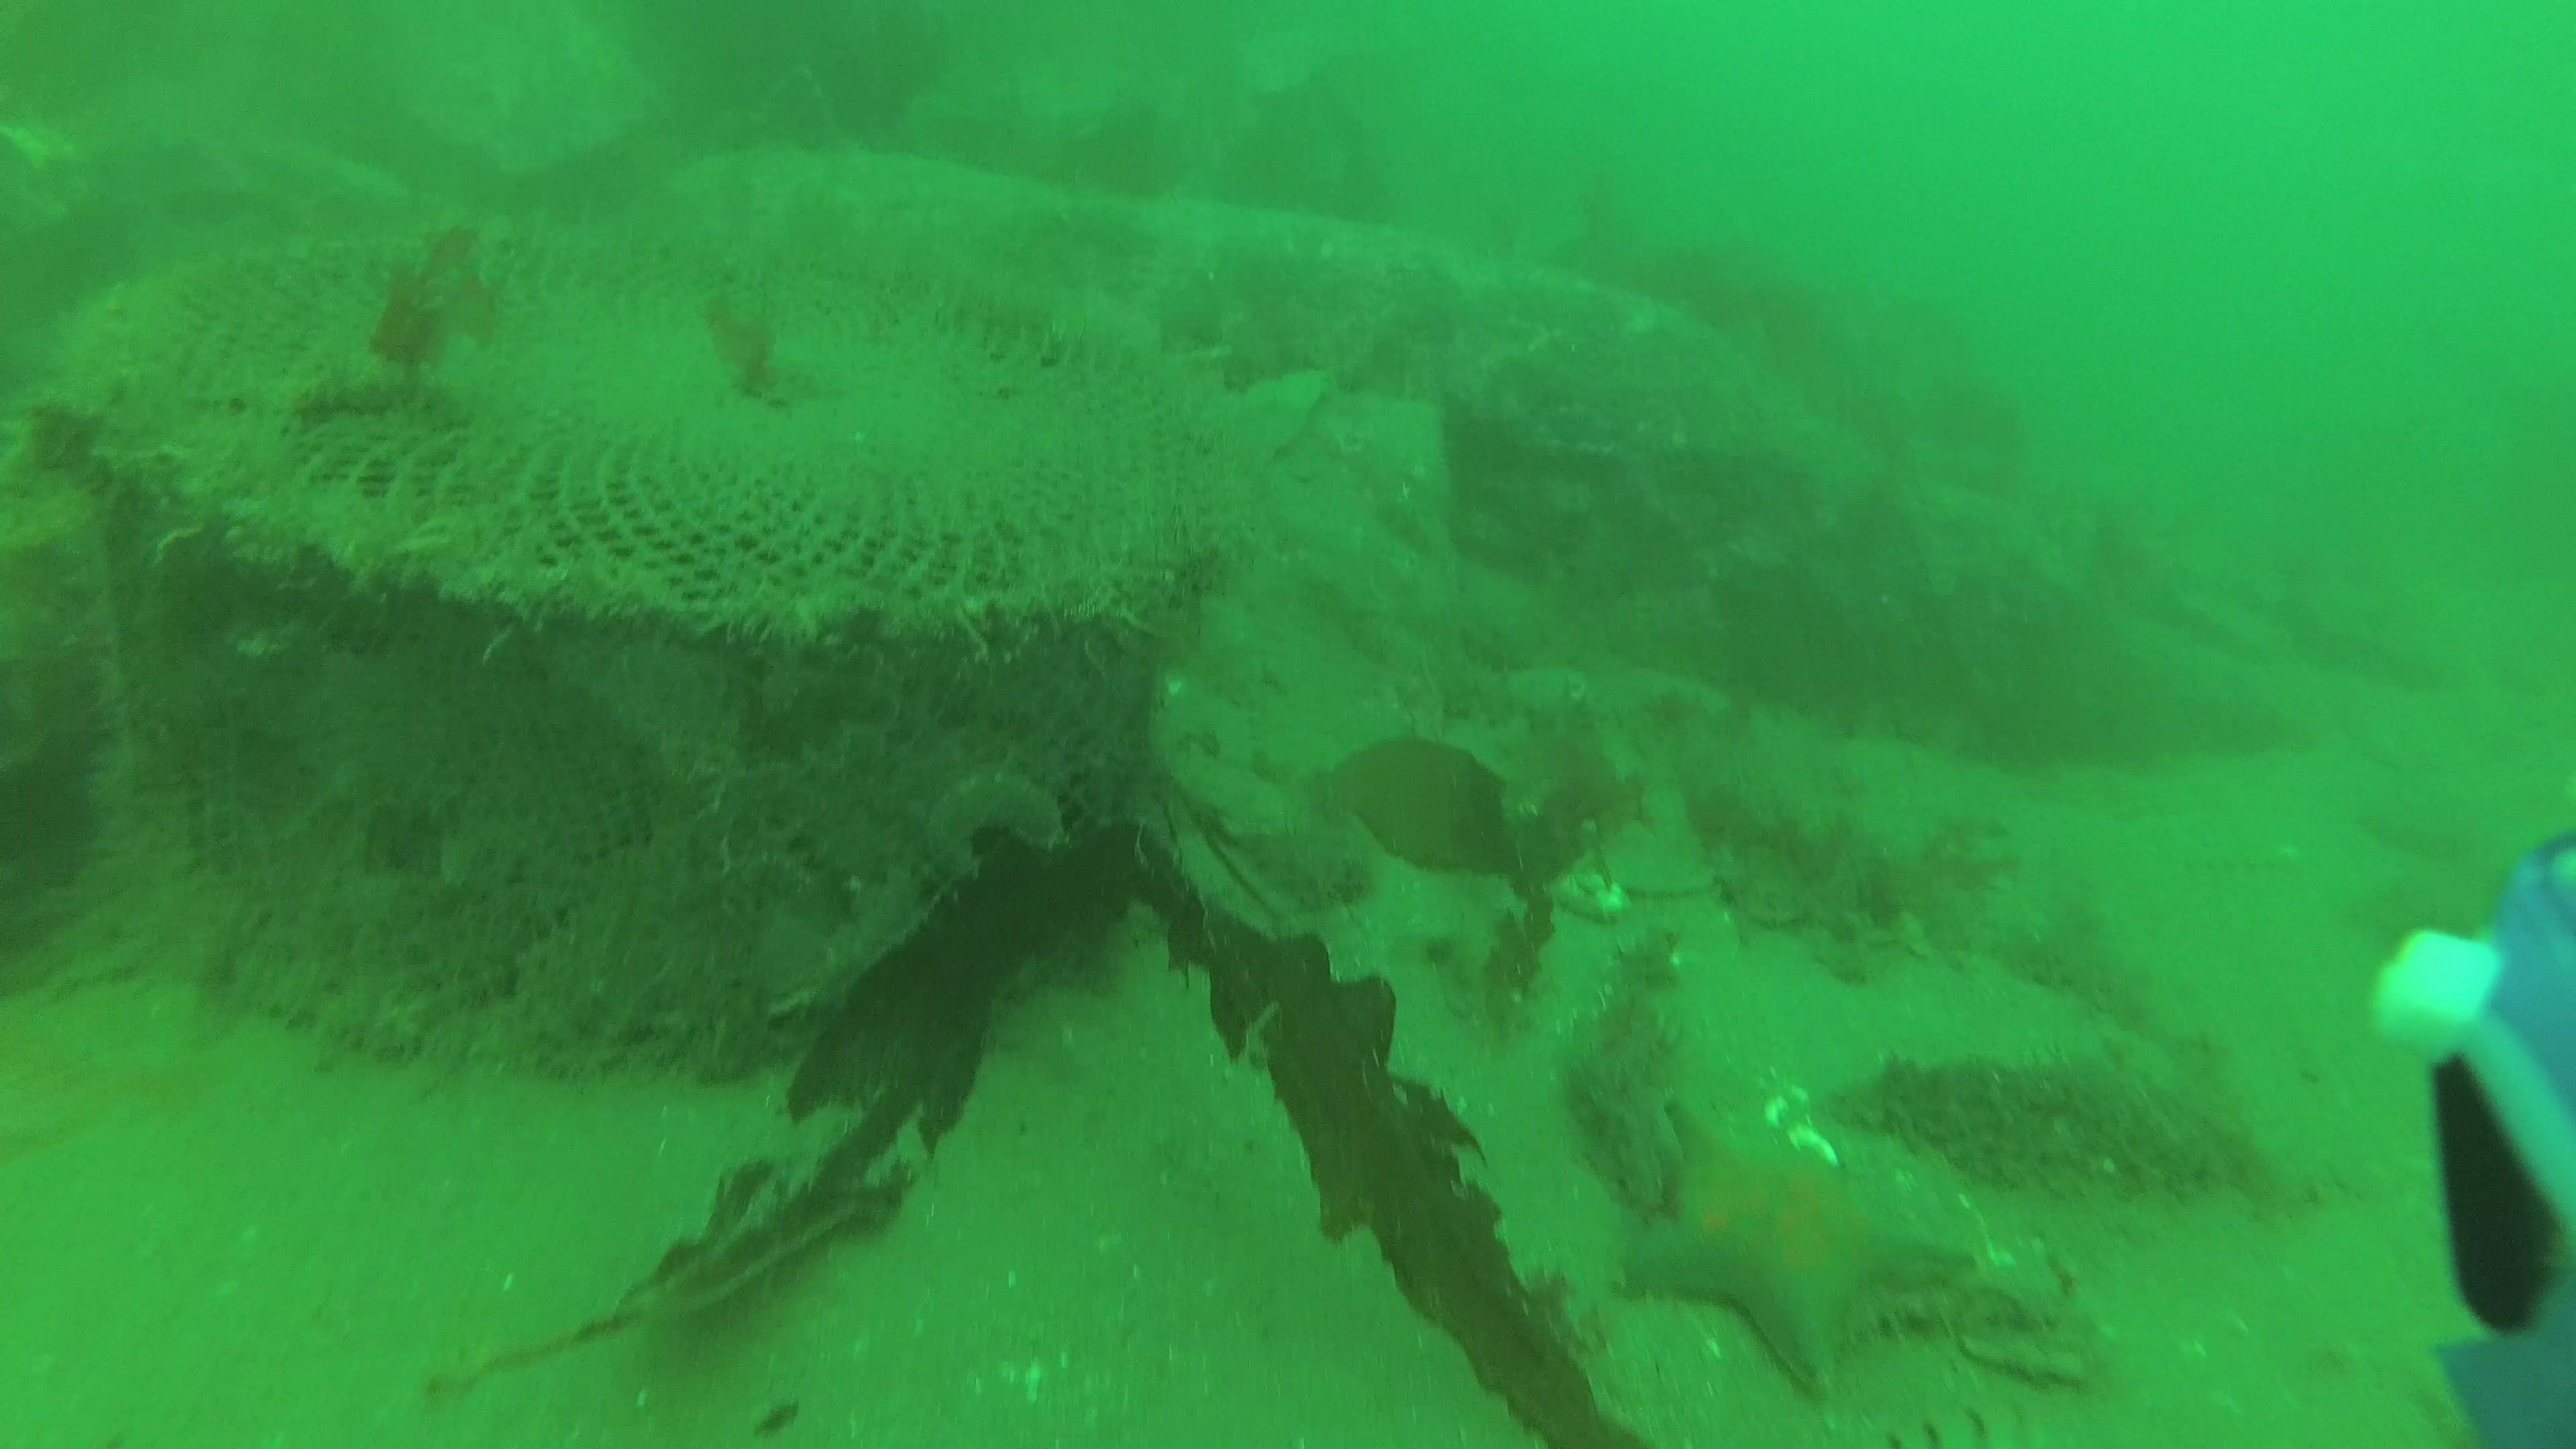starfish: (1614, 1092, 1985, 1399)
